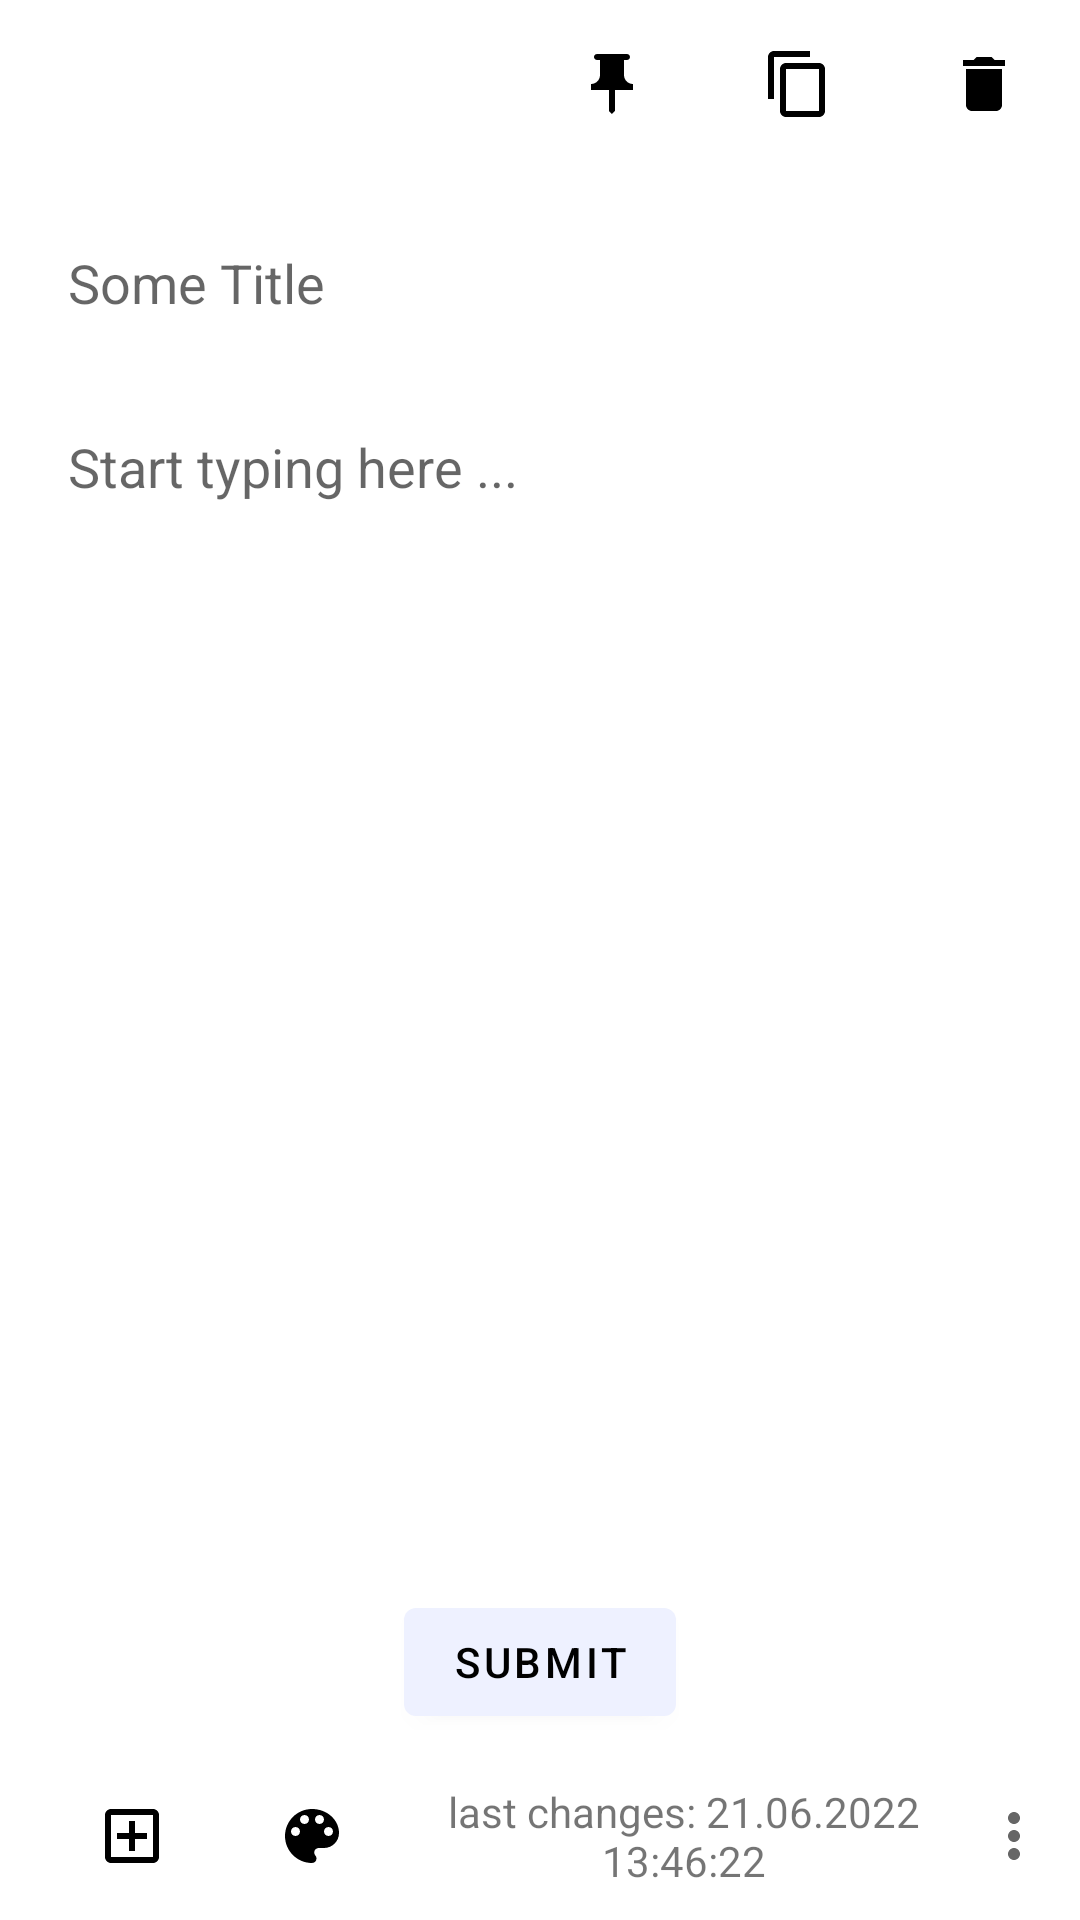

Where icons sit on this 1080px x 1920px app screen, as (x1, y1, x2, y2):
add box: (105, 1809, 159, 1863)
delete: (963, 57, 1005, 111)
push pin: (591, 54, 633, 114)
